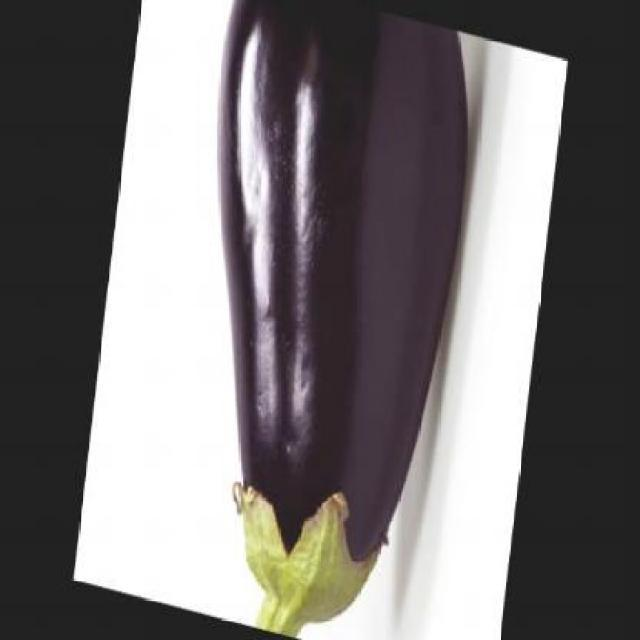eggplant: (208, 0, 480, 640)
